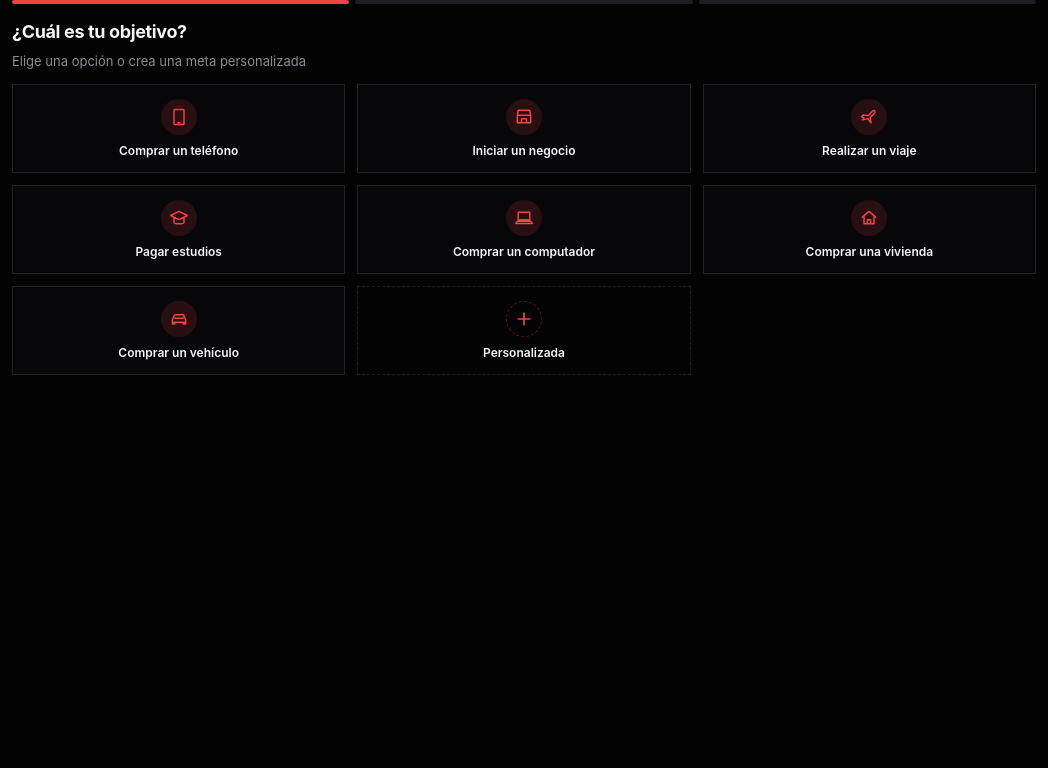
CreateGoalWizard › modo "Aporte mensual" calcula el total segun los meses restantes
The width and height of the screenshot is (1048, 768).
Click the button with class "type-tile-custom": (524,330) [357,286,691,375]
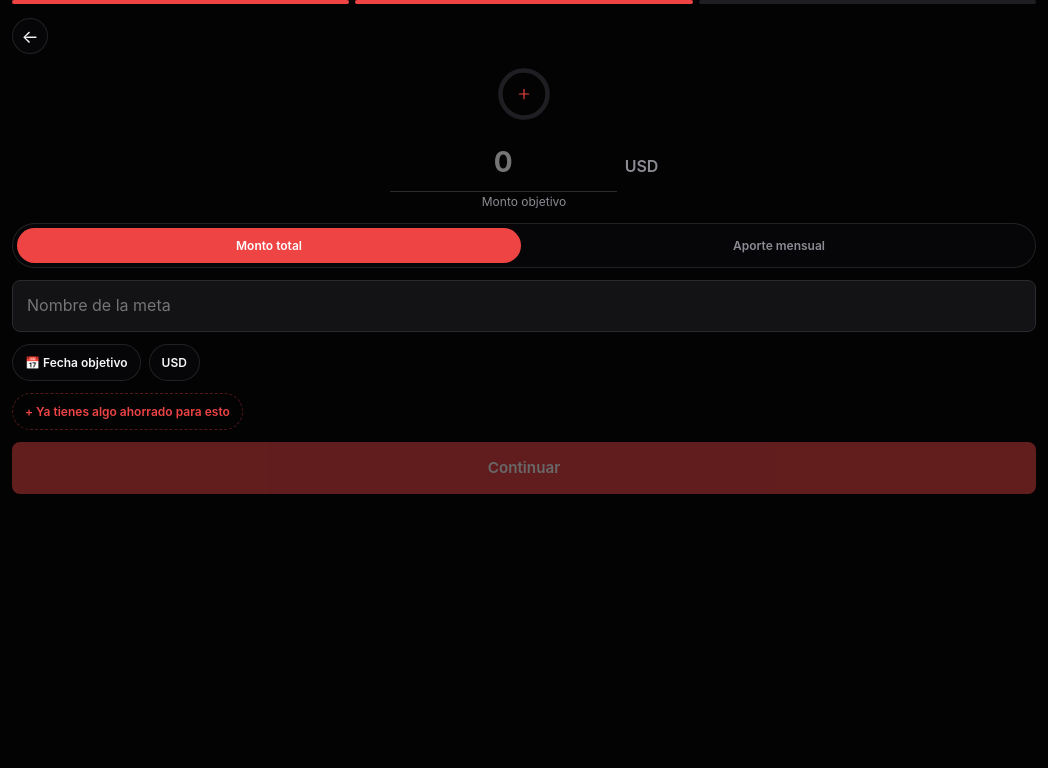
In the field with class "wizard-title-input": (524,306) [12,280,1036,332], type "TV"
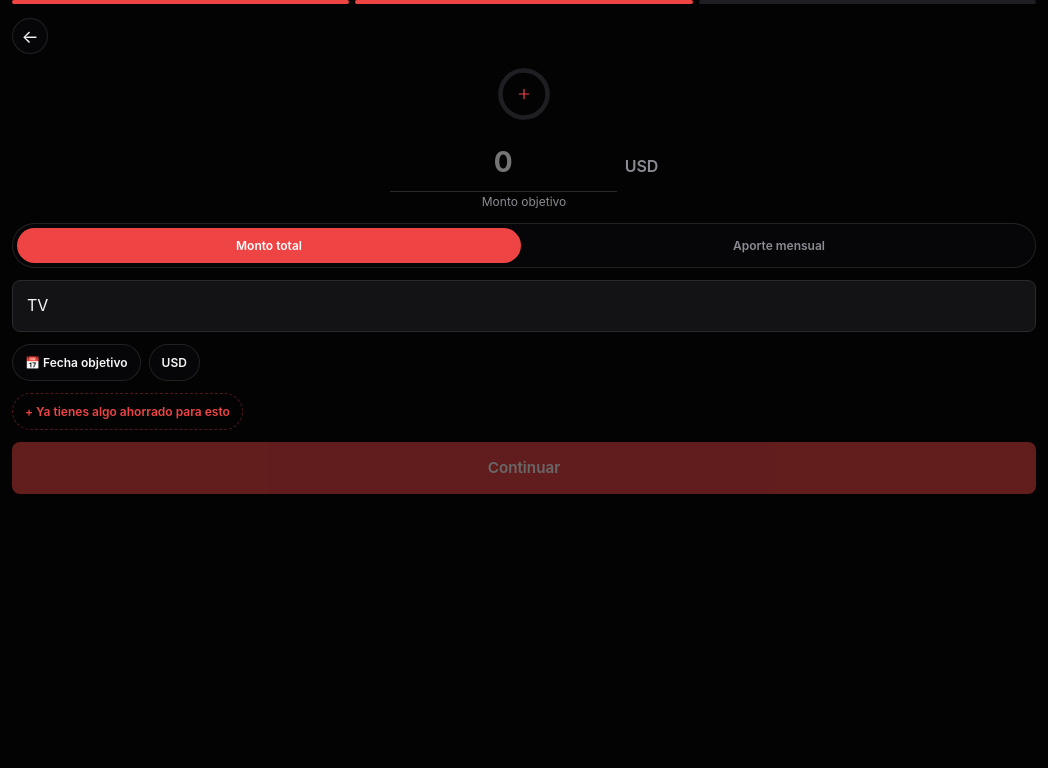
In the date field labelled "📅 Fecha objetivo": (76,362) [12,344,140,381], type "2026-12-28"
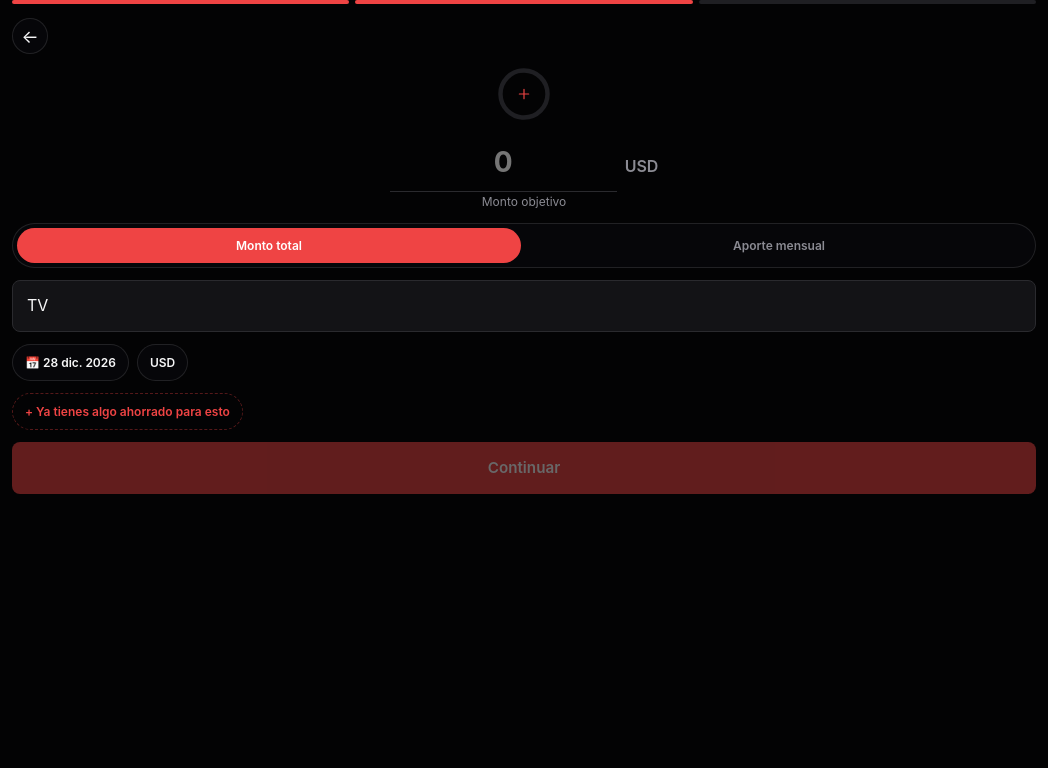
Click the button with class "amount-mode-option" showing "Aporte mensual": (779,246) [527,228,1031,263]
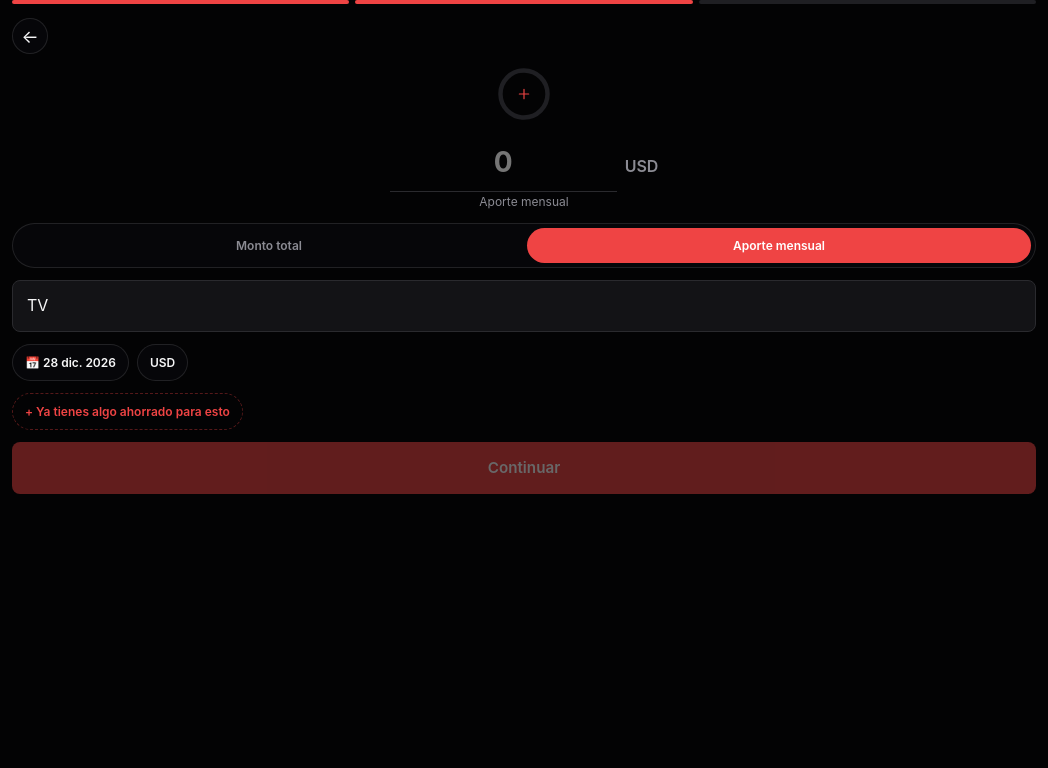
In the field with class "wizard-amount-input": (503,163) [390,134,617,192], type "80"
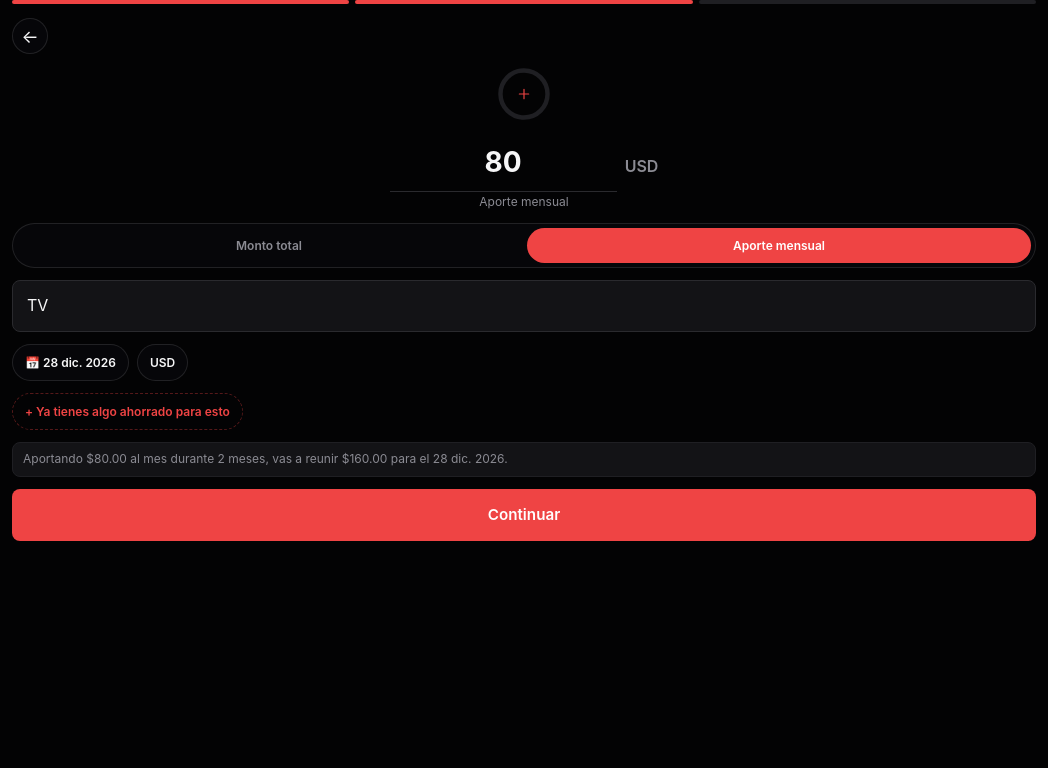
expect the text with class "wizard-hint" is shown: met, box [12,442,1036,477]
expect the text with class "wizard-hint" shows "vas a reunir": met, box [23,451,508,466]
